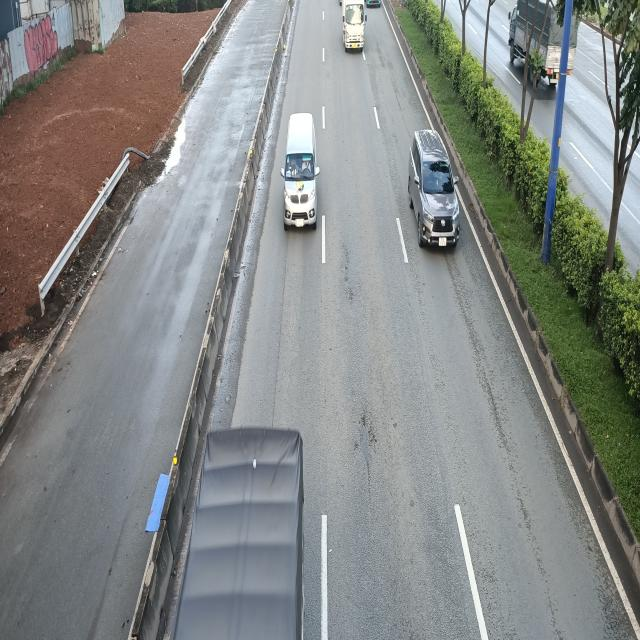car: (409, 130, 460, 250)
truck: (340, 0, 368, 51)
van: (280, 114, 318, 232)
